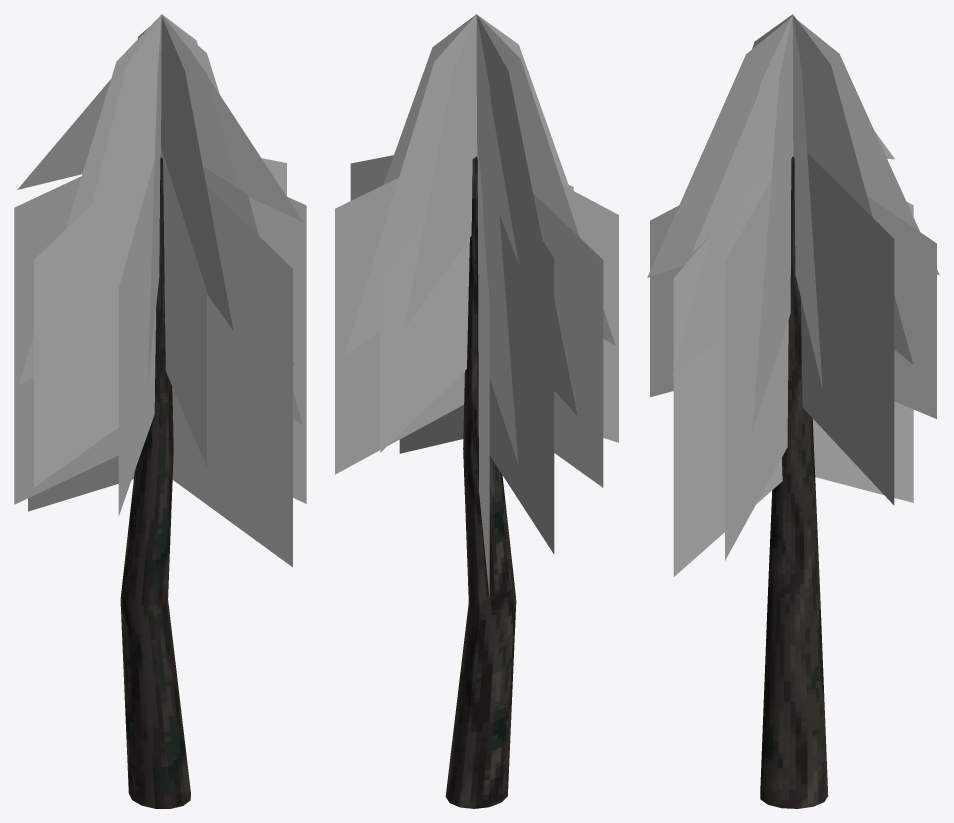
File: Tree_GreyWood (1).fbx
3 views of the same model, side by side, from view 1: azimuth 30°, elevation 25°; view 2: azimuth 150°, elevation 25°; view 3: azimuth 270°, elevation 25° (orthographic).
Parts seen in each view (by area): view 1: tree_project Integrado.036; view 2: tree_project Integrado.036; view 3: tree_project Integrado.036.
Boxes of the visible parts, x1=… form: tree_project Integrado.036: x1=14, y1=14, x2=306, y2=808; tree_project Integrado.036: x1=335, y1=14, x2=618, y2=808; tree_project Integrado.036: x1=647, y1=14, x2=939, y2=808.
Size of what is drawn, in the model's own units: 1024 by 3019 by 1024.
